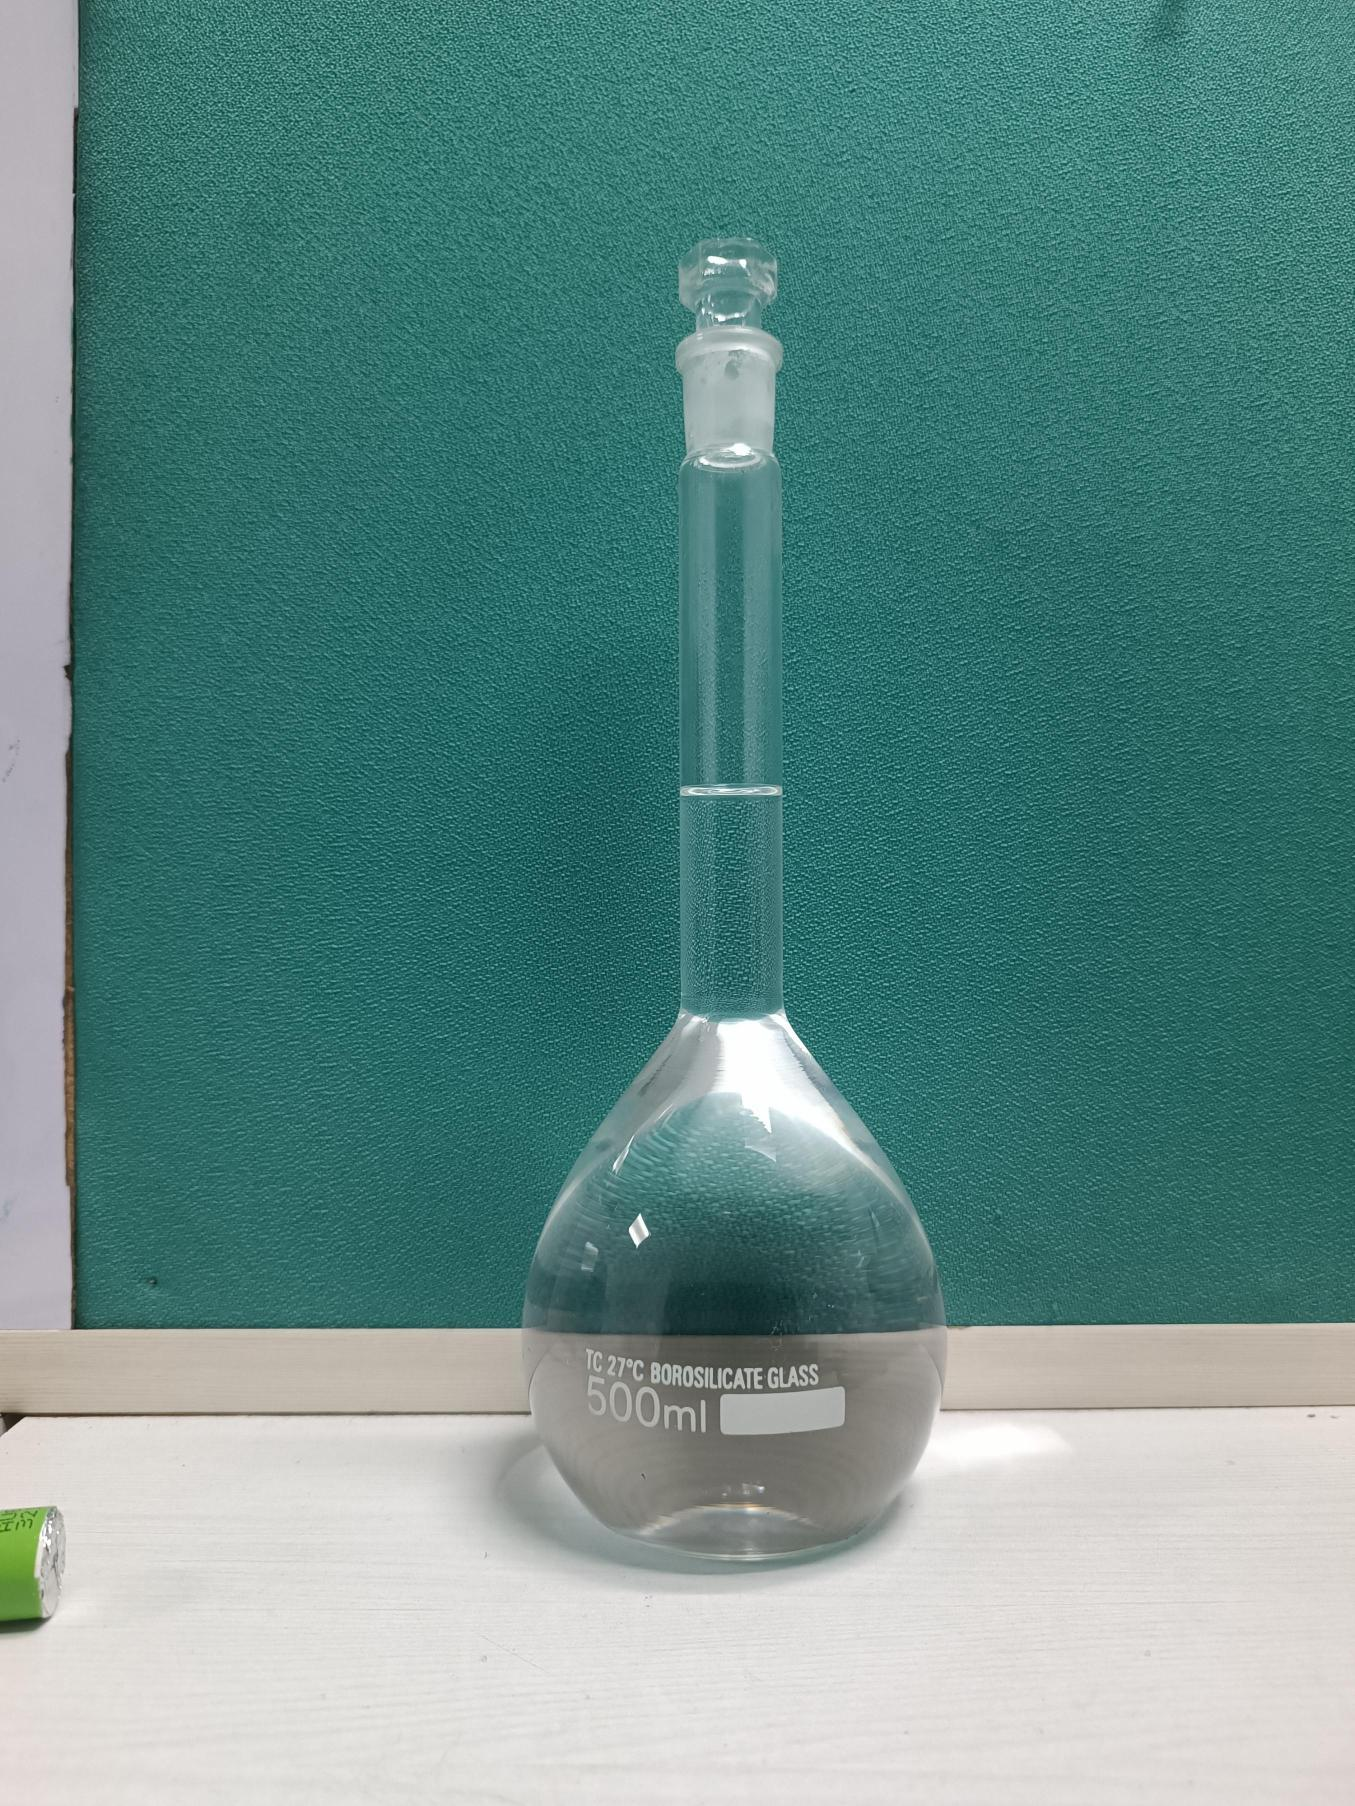Volumetric flask: (500, 233, 976, 1563)
